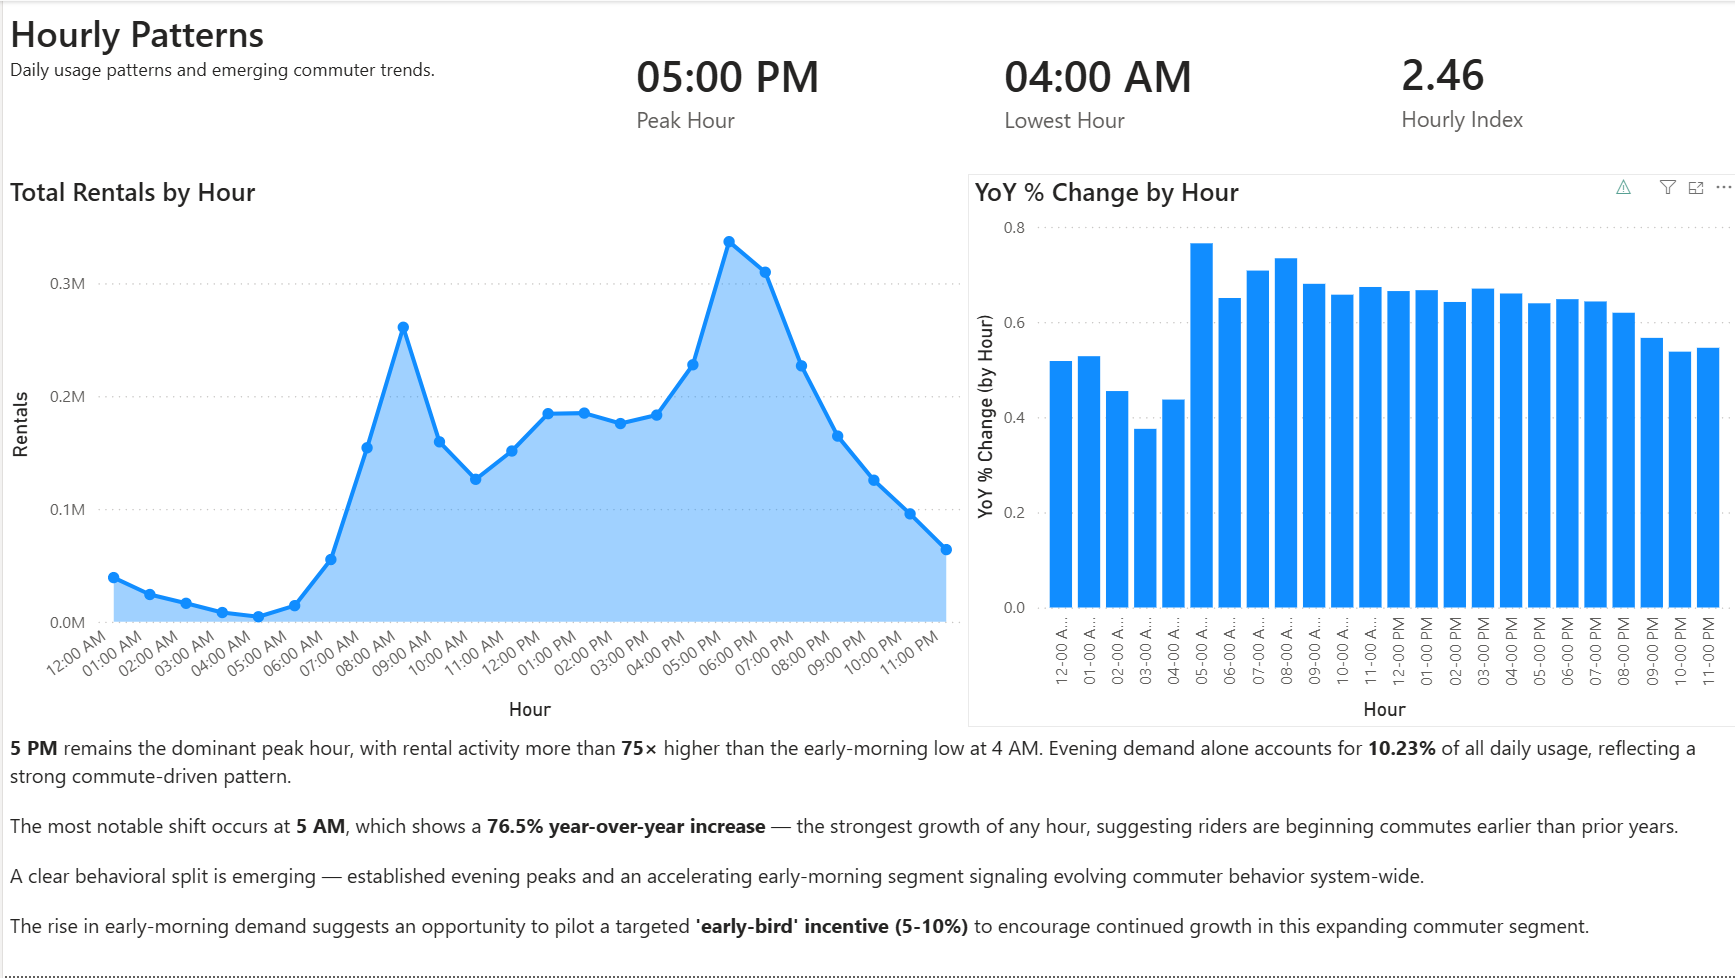

What the dashboard file says about the page in this screenshot:
{"tool":"powerbi","page":{"name":"Hourly Patterns","canvas":[1280,720],"ordinal":2},"visuals":[{"type":"textbox","box":[0,0,438.9,129],"z":0},{"type":"cardVisual","fields":{"Data":["public view_fact_bike_rentals.Peak Hour"]},"box":[438.7,0,271.6,129.5],"z":1000},{"type":"cardVisual","fields":{"Data":["public view_fact_bike_rentals.Lowest Hour"]},"box":[710.3,0,293.9,129.5],"z":2000},{"type":"cardVisual","fields":{"Data":["public view_fact_bike_rentals.Hourly Index"]},"box":[1002.8,0,277.2,129],"z":3000},{"type":"lineChart","title":"Total Rentals by Hour","fields":{"Category":["public view_fact_bike_rentals.hour_label"],"Y":["public view_fact_bike_rentals.Total Rentals"]},"box":[0,128,712,408],"z":4000},{"type":"clusteredColumnChart","title":"YoY % Change by Hour","fields":{"Y":["public view_fact_bike_rentals.YoY % Change (by Hour)"],"Category":["public dim_hour.hour_label"]},"box":[712,128,568,408],"z":5000},{"type":"textbox","box":[0,536,1280,184],"z":6000}]}

Visuals, with their boxes in screenshot pixels (x1, y1, x2, y2), scaled from the page's 1280x720 canvas onto the 1735x978 screenshot:
textbox: <bbox>0, 0, 595, 175</bbox>
cardVisual - public view_fact_bike_rentals.Peak Hour: <bbox>595, 0, 963, 176</bbox>
cardVisual - public view_fact_bike_rentals.Lowest Hour: <bbox>963, 0, 1361, 176</bbox>
cardVisual - public view_fact_bike_rentals.Hourly Index: <bbox>1359, 0, 1734, 175</bbox>
"Total Rentals by Hour" lineChart: <bbox>0, 174, 965, 728</bbox>
"YoY % Change by Hour" clusteredColumnChart: <bbox>965, 174, 1734, 728</bbox>
textbox: <bbox>0, 728, 1734, 977</bbox>
